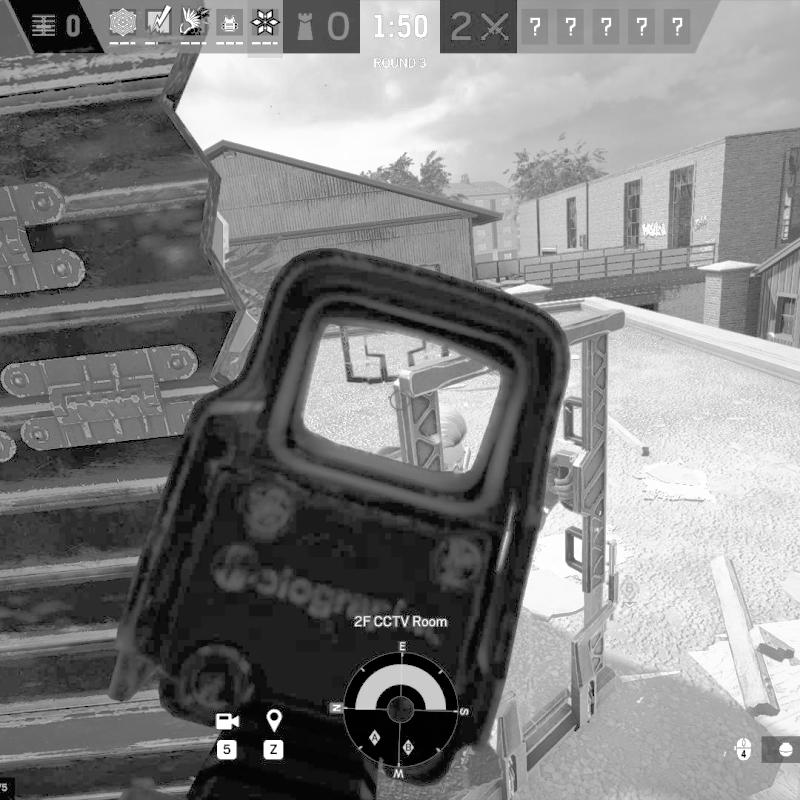Character: (438, 410, 475, 474)
Head: (441, 412, 471, 471)
